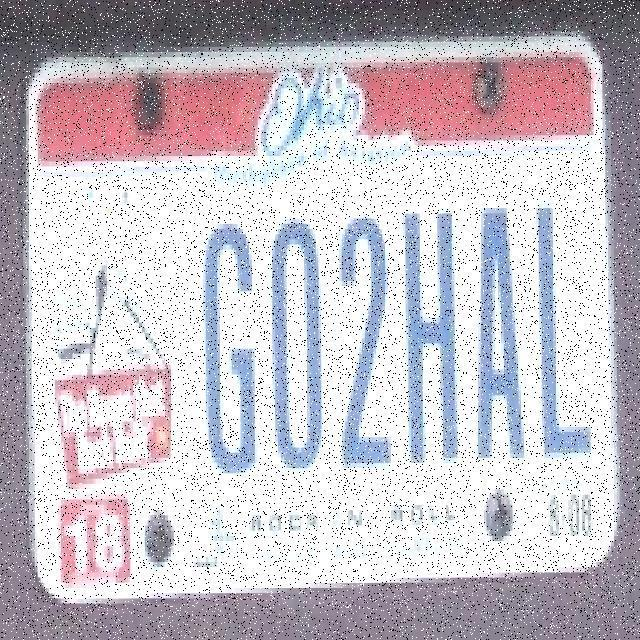LicensePlate: (25, 39, 596, 593)
